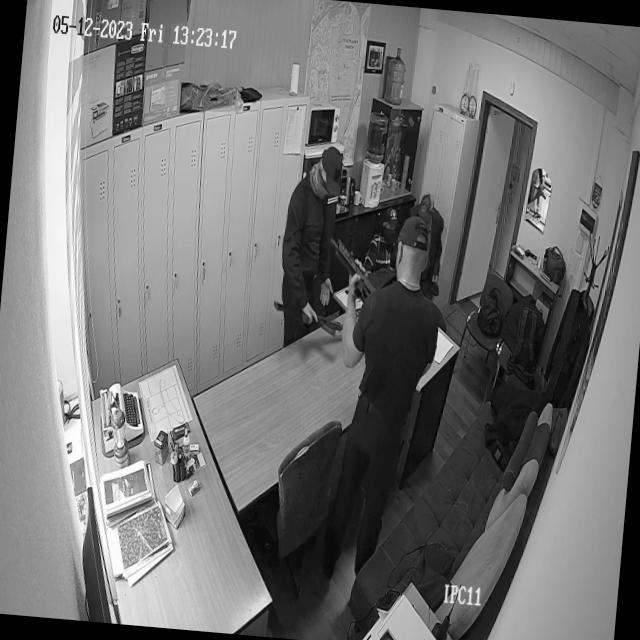gun: (272, 291, 350, 337), (332, 232, 372, 278)
person with a gun: (316, 185, 445, 640), (274, 132, 363, 366)
